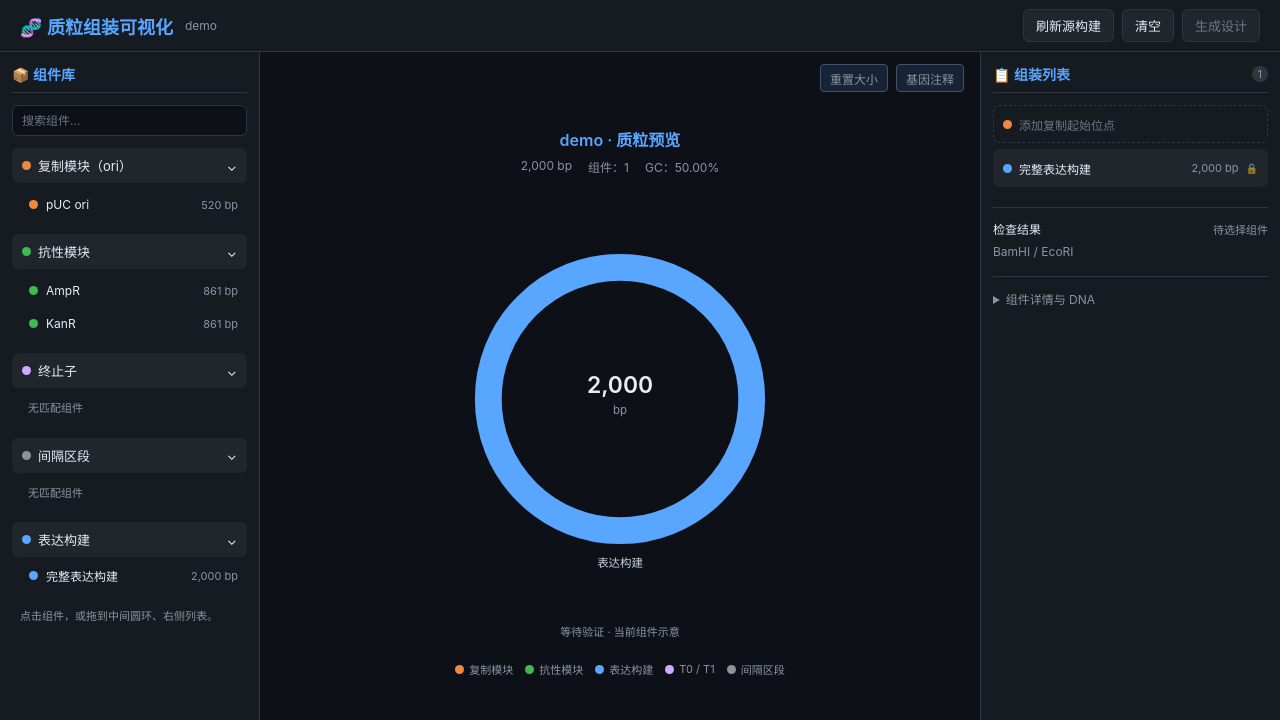
it: Workbench › ignores a stale preview response after selections change
Expected: the text "AmpR" is shown, [46,283,80,298]
What coordinates should you click on to do the following:
click the button "AmpR 861 bp"
I would click on:
 (134, 290)
Its box is [20,275,247,306].
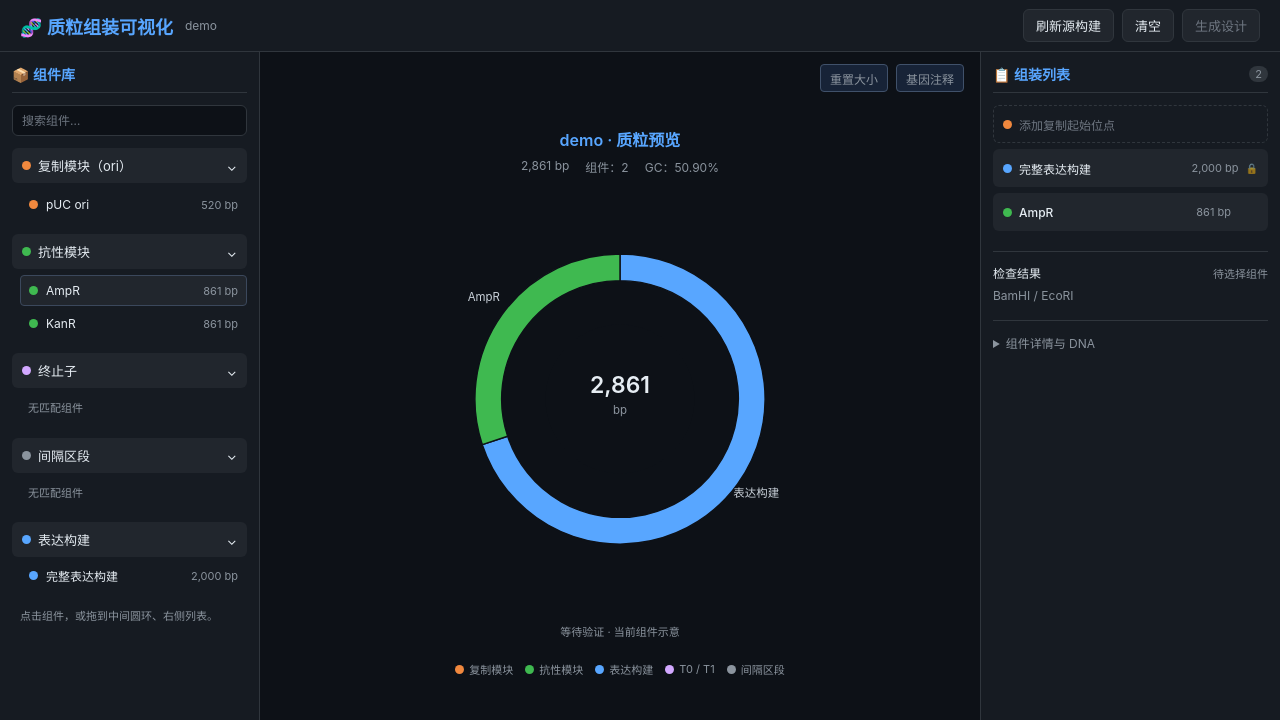
What coordinates should you click on to do the following:
click the button "pUC ori 520 bp"
I would click on:
 (134, 204)
Its box is [20,189,247,220].
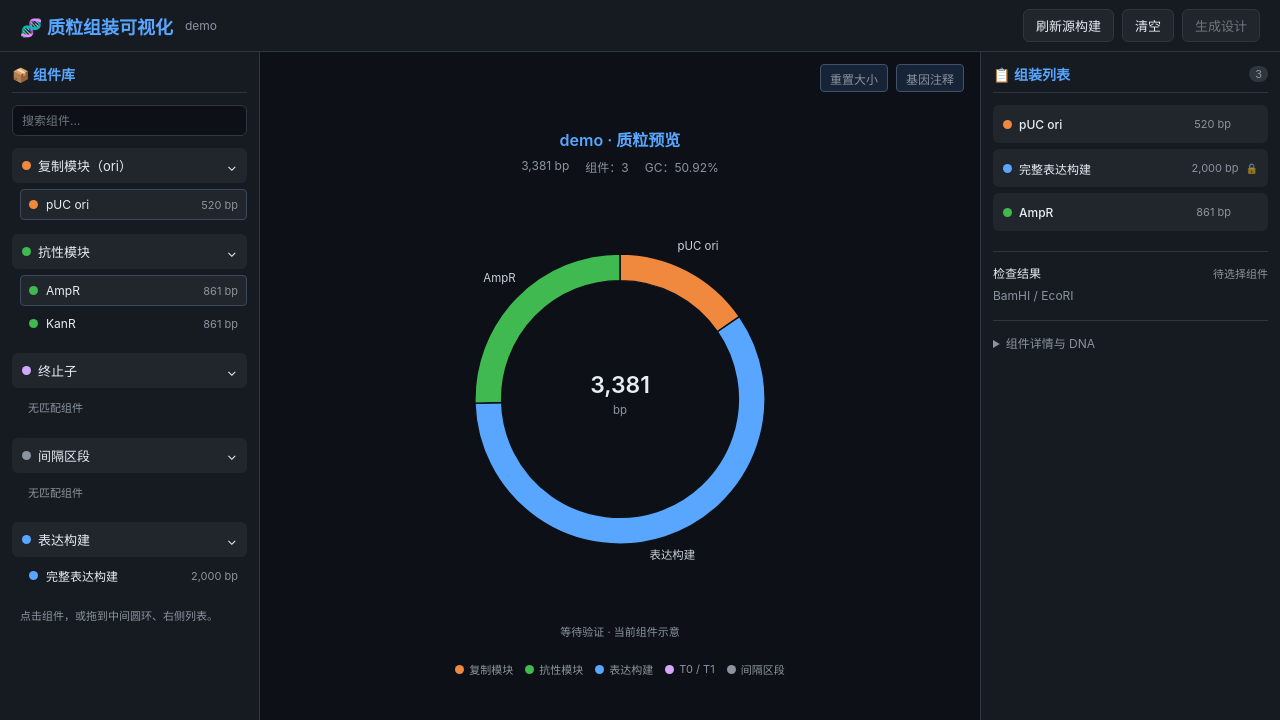
What coordinates should you click on to do the following:
click the button "KanR 861 bp"
I would click on:
 (134, 324)
Its box is [20,308,247,339].
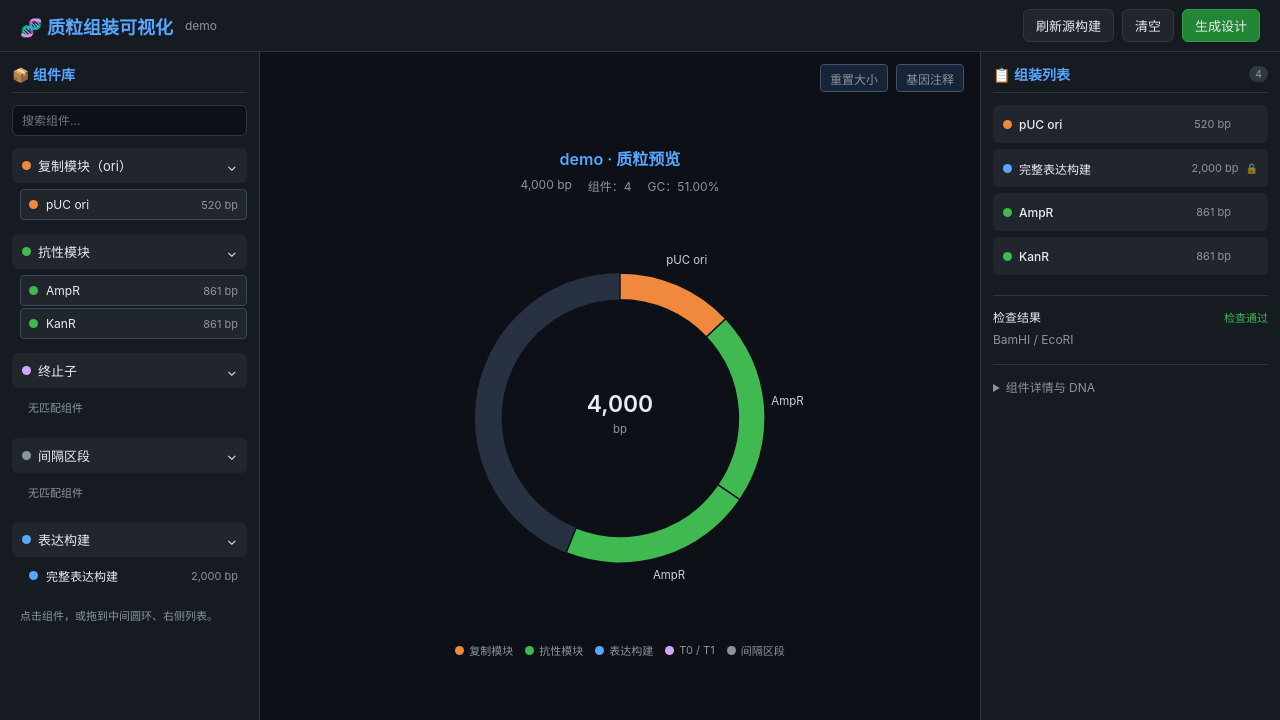
Expected: the text "4,000 bp" is shown, [520,177,572,194]
Expected: the text "3,381 bp" is gone
